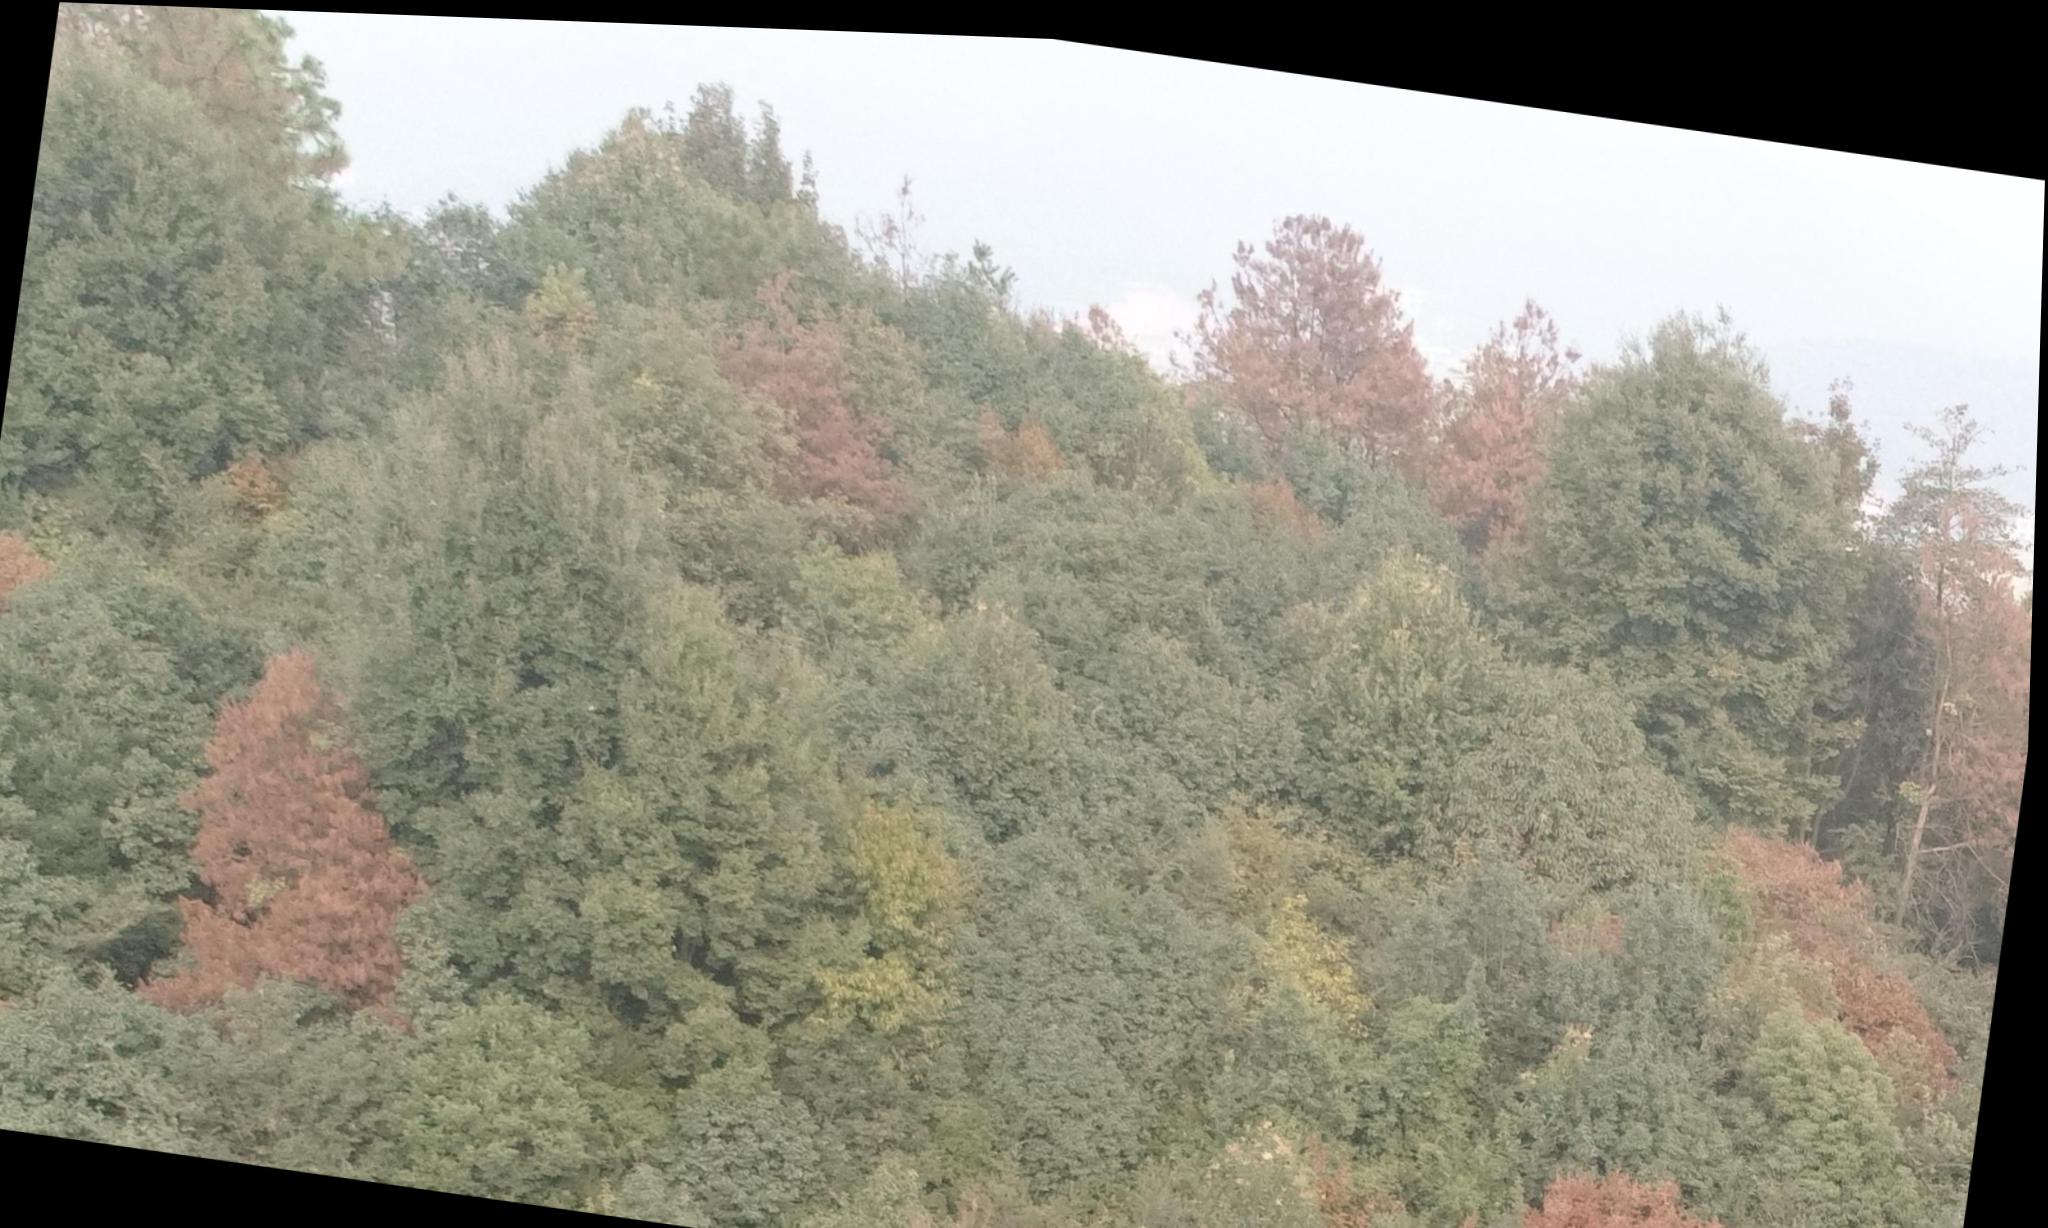heavy: (153, 627, 447, 1042), (1161, 178, 1443, 490), (1857, 478, 2038, 905), (696, 273, 928, 541), (1431, 270, 1585, 539), (1507, 1140, 1814, 1228)
